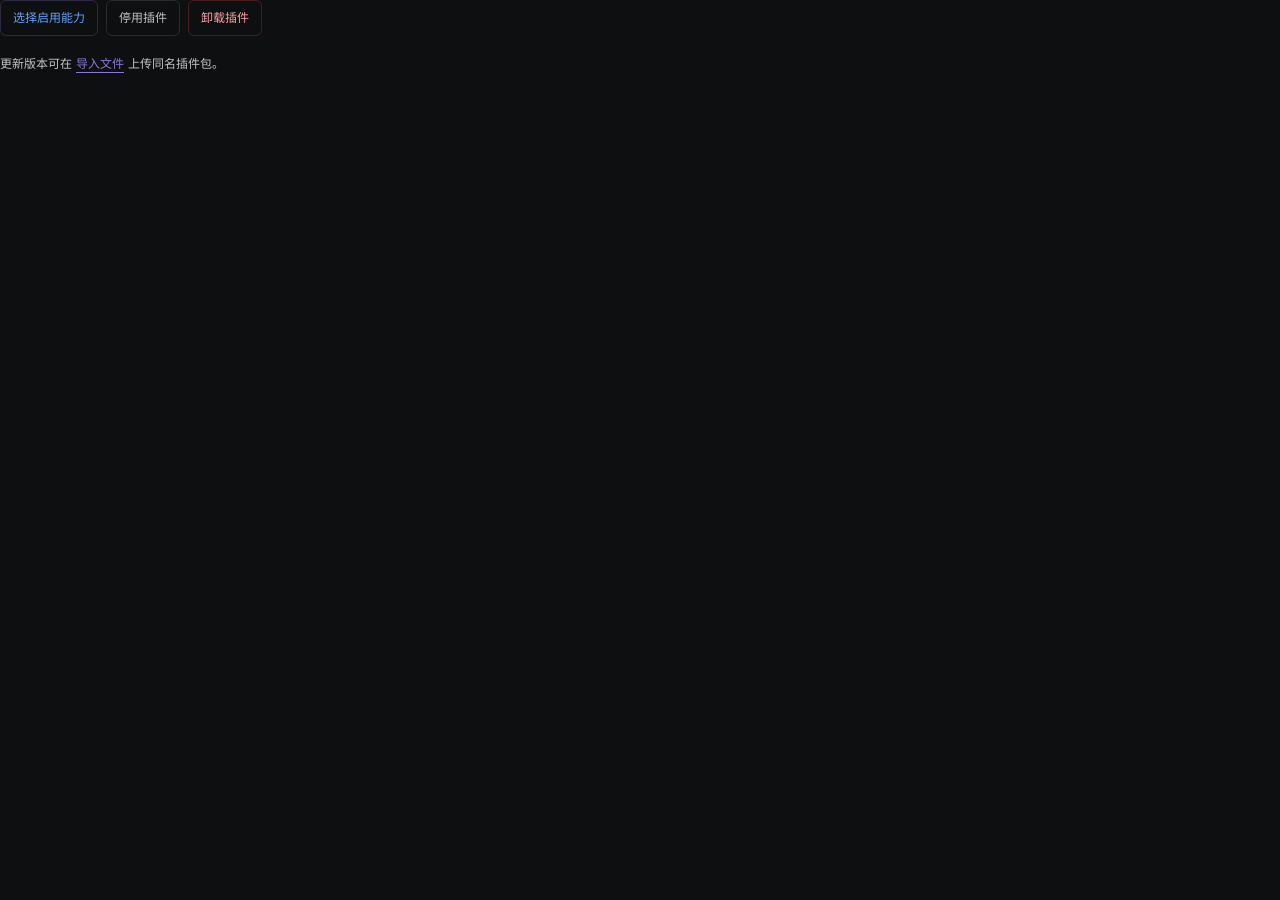
failed removal shows routing references without closing confirmation
Click the button "卸载插件".
click(225, 18)  # box 188,0 -> 262,36
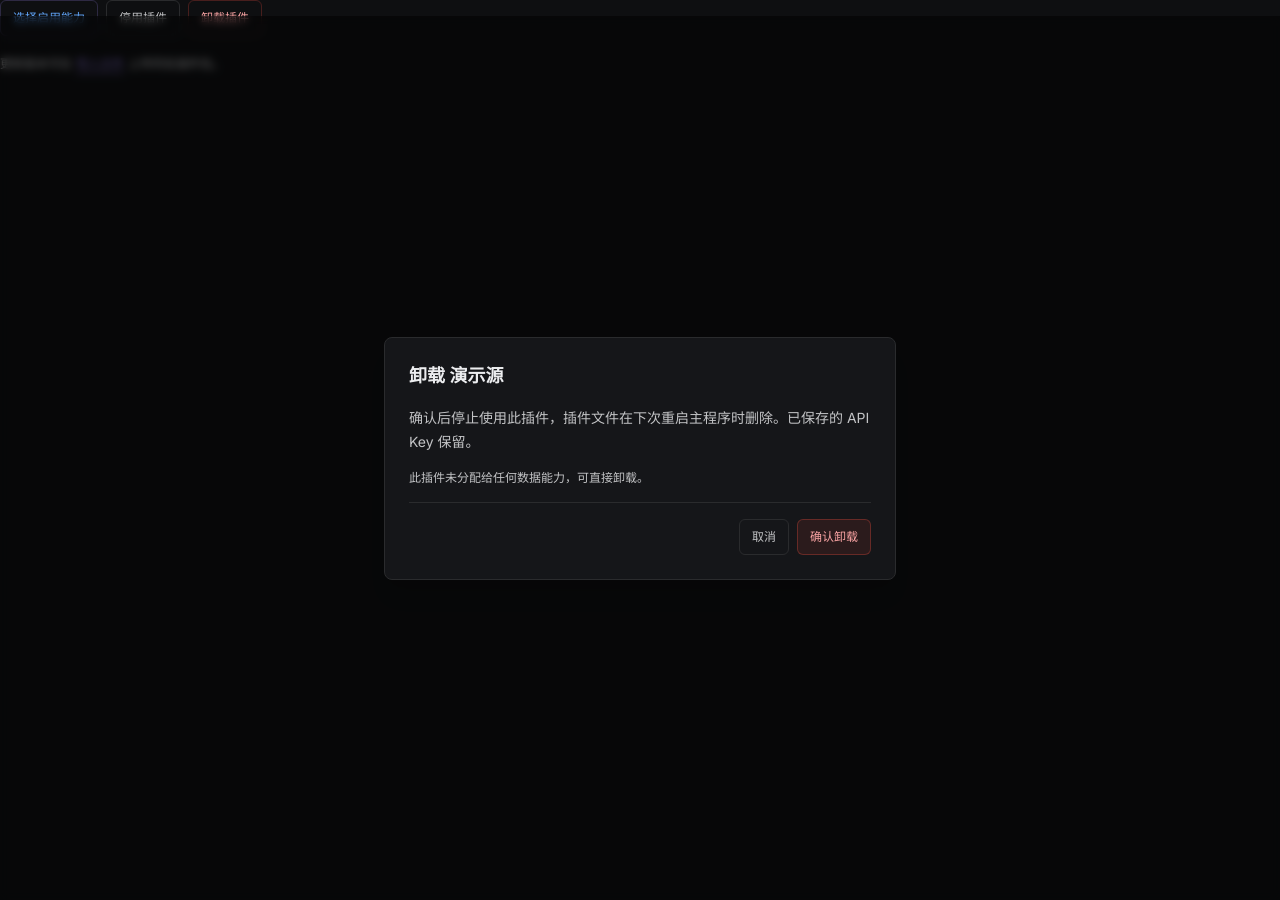
Expected: the button "确认卸载" is enabled
Click the button "确认卸载".
click(834, 536)  # box 797,518 -> 871,554
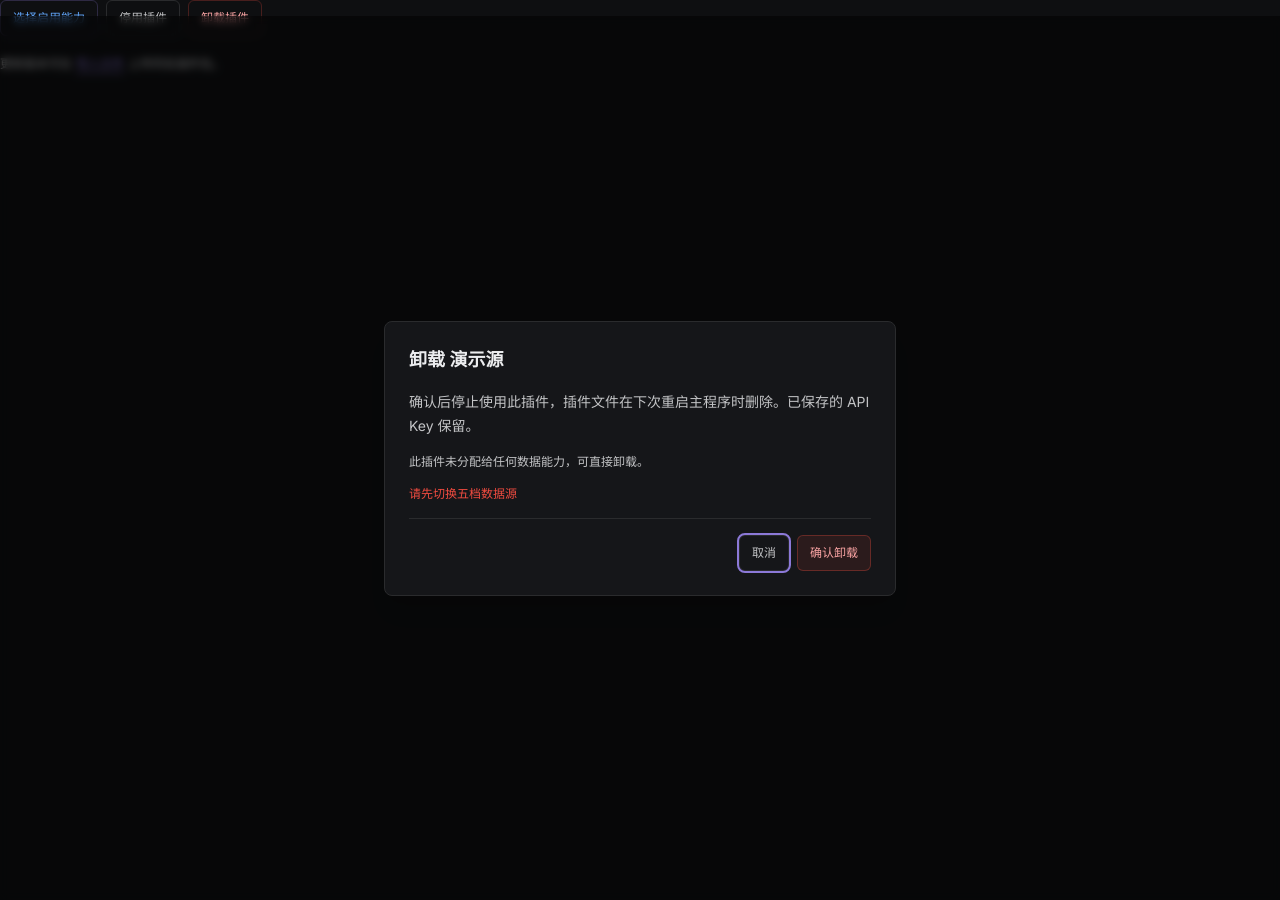
Expected: the dialog is shown, 384,320 -> 896,596
Expected: the text "请先切换五档数据源" is shown, 409,486 -> 517,500
